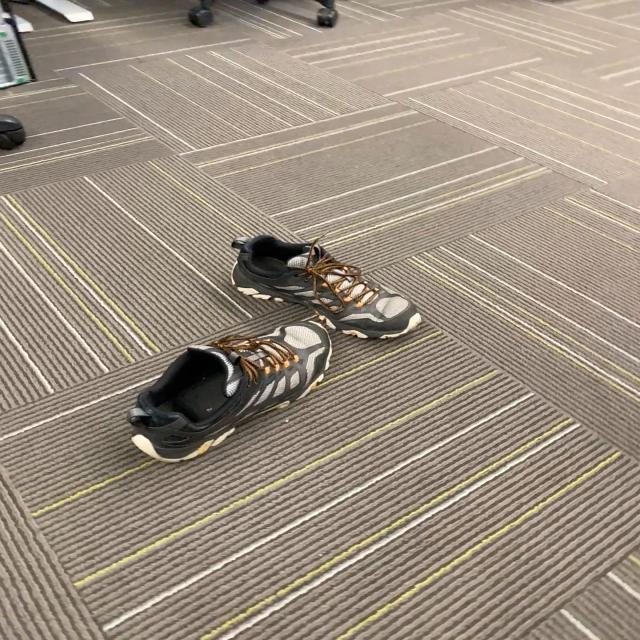shoe: (128, 319, 336, 464), (232, 236, 421, 342)
